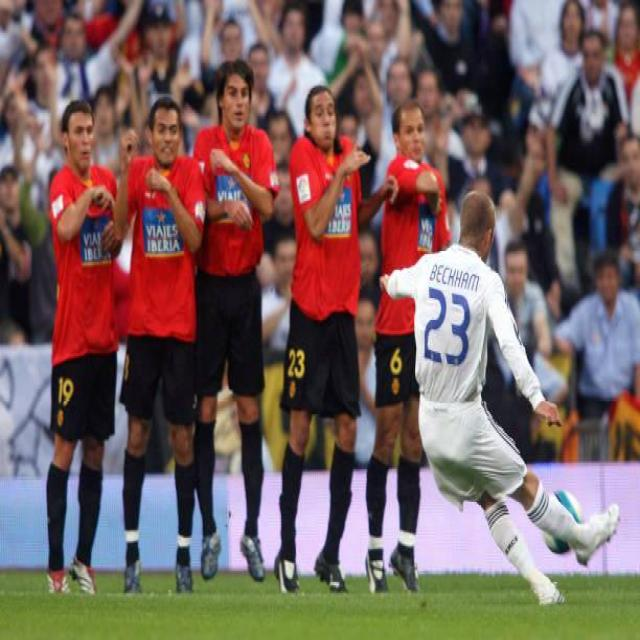ball: (540, 482, 582, 555)
player: (400, 196, 614, 602), (272, 80, 372, 599), (115, 86, 206, 598), (192, 52, 276, 580), (39, 96, 122, 610), (364, 105, 437, 591)
